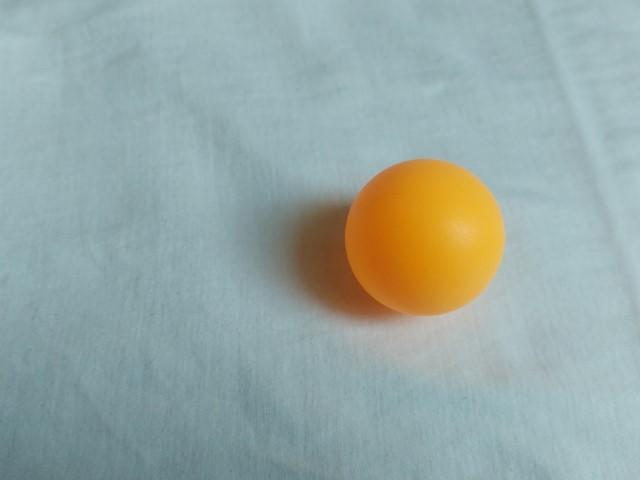oball: (333, 152, 515, 326)
